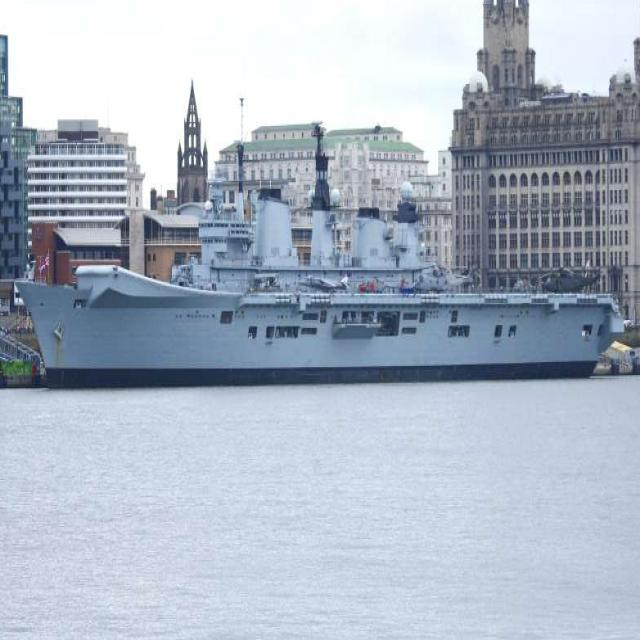Portanaves: (12, 117, 632, 390)
